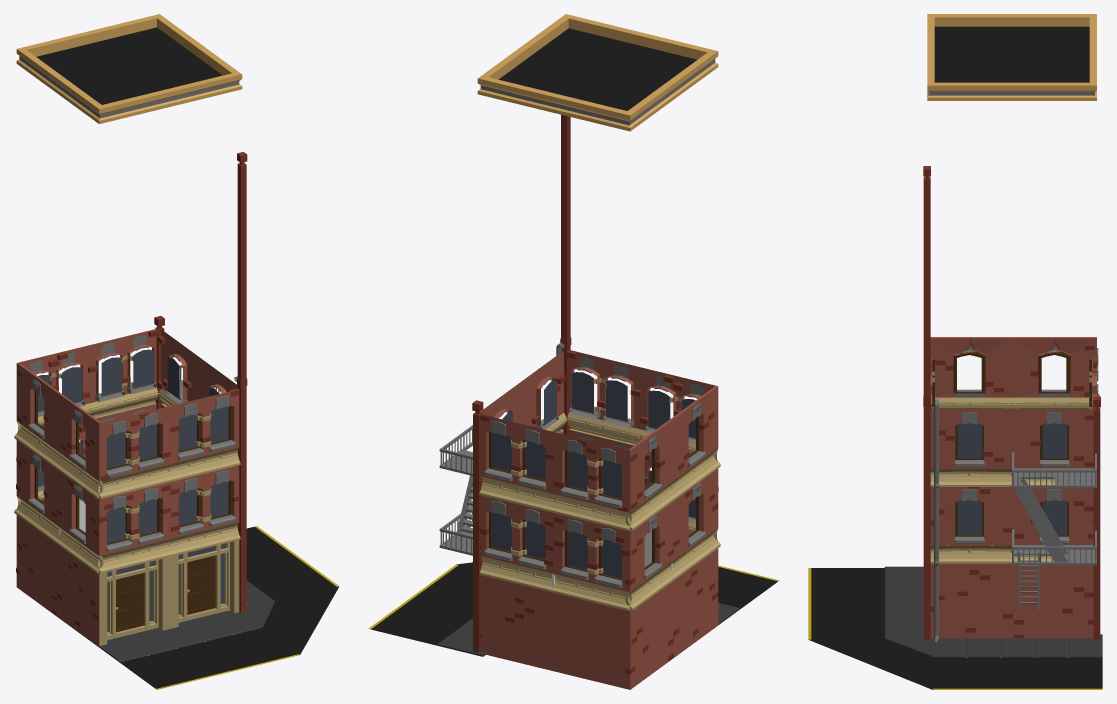
File: building.glb
3 renders of one model, left to right at view 1: azimuth 30°, elevation 25°; view 2: azimuth 150°, elevation 25°; view 3: azimuth 270°, elevation 25°, orthographic. The views are drawn at different scales.
Parts seen in each view (by area): view 1: window_double, roof, window_single.002, road.002, door.001, window_double.002, wall.003, sidewalk.003, window_single, bricks.002, pillar.002, pillar; view 2: window_double.002, roof, window_single.002, wall.004, window_double, wall.003, road.002, window_single, bricks.002, pillar.002, pillar.001, fire_escape (+1 smaller); view 3: window_single, roof, road.002, wall, window_single.002, sidewalk.003, fire_escape, bricks.002, pillar.002, pillar, pillar.001, stairs_sides (+1 smaller).
Boxes of the visible parts, bbox=[...] form: window_double: bbox=[98, 389, 240, 573]; roof: bbox=[16, 14, 242, 123]; window_single.002: bbox=[14, 362, 103, 573]; road.002: bbox=[120, 526, 339, 689]; door.001: bbox=[99, 540, 239, 645]; window_double.002: bbox=[15, 329, 158, 509]; wall.003: bbox=[16, 515, 99, 647]; sidewalk.003: bbox=[99, 580, 275, 662]; window_single: bbox=[158, 329, 237, 407]; bricks.002: bbox=[16, 329, 239, 626]; pillar.002: bbox=[237, 152, 247, 390]; pillar: bbox=[237, 377, 247, 612]; window_double.002: bbox=[479, 414, 631, 610]; roof: bbox=[477, 14, 718, 131]; window_single.002: bbox=[625, 385, 720, 610]; wall.004: bbox=[481, 575, 630, 689]; window_double: bbox=[567, 350, 719, 542]; wall.003: bbox=[630, 548, 718, 689]; road.002: bbox=[368, 562, 779, 645]; window_single: bbox=[480, 350, 566, 434]; bricks.002: bbox=[480, 350, 718, 674]; pillar.002: bbox=[561, 114, 570, 350]; pillar.001: bbox=[472, 400, 483, 652]; fire_escape: bbox=[439, 425, 472, 555]; window_single: bbox=[930, 409, 1093, 563]; roof: bbox=[927, 14, 1096, 100]; road.002: bbox=[808, 568, 1102, 689]; wall: bbox=[930, 564, 1093, 638]; window_single.002: bbox=[930, 337, 1096, 408]; sidewalk.003: bbox=[884, 566, 1102, 657]; fire_escape: bbox=[1012, 452, 1096, 565]; bricks.002: bbox=[930, 345, 1097, 638]; pillar.002: bbox=[923, 166, 930, 410]; pillar: bbox=[923, 397, 930, 639]; pillar.001: bbox=[1093, 396, 1100, 639]; stairs_sides: bbox=[1014, 479, 1067, 562].
Bounding box in the file's own units: 3.43 × 7.2 × 3.47.
